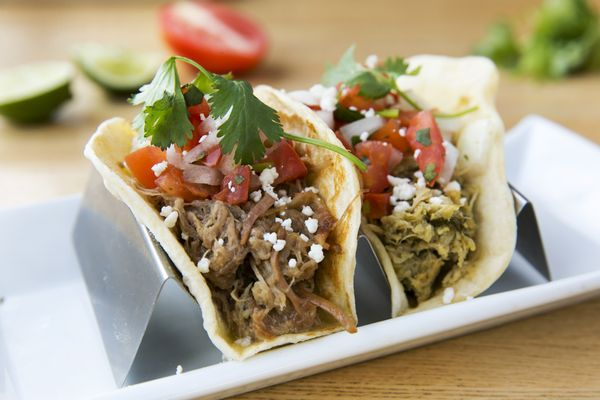soup: (83, 54, 363, 360)
